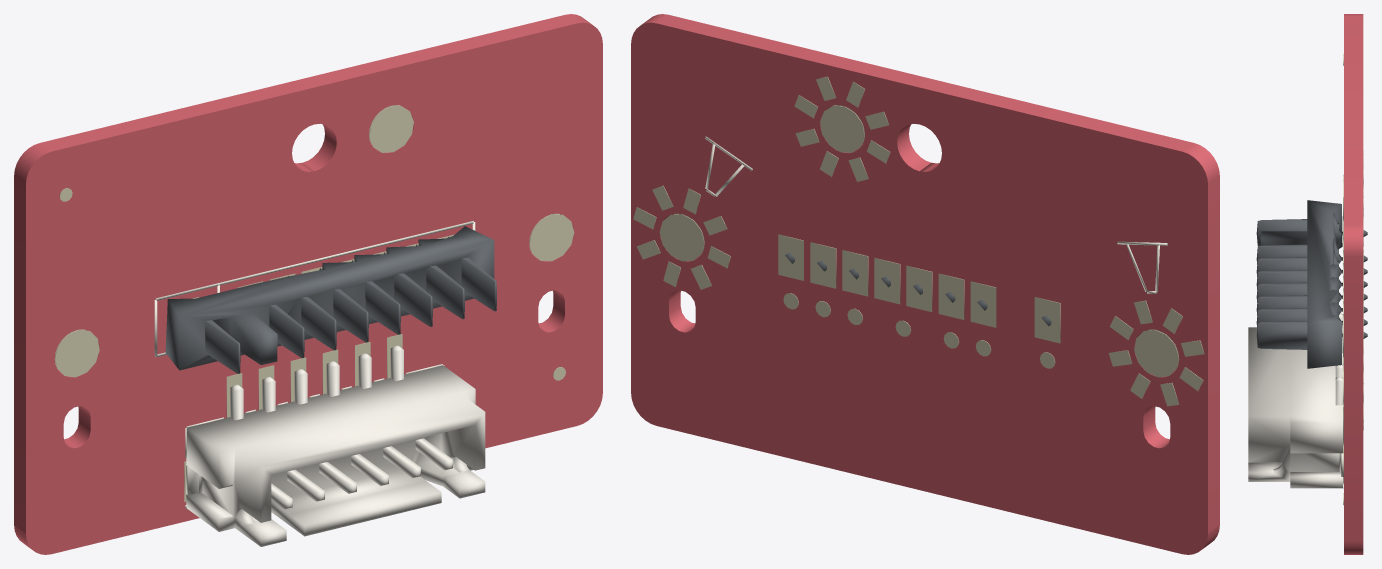
Rendered from pcb-conn-baffle.glb.
3 renders of one model, left to right at view 1: azimuth 30°, elevation 25°; view 2: azimuth 150°, elevation 25°; view 3: azimuth 270°, elevation 25°, orthographic. The views are drawn at different scales.
Visible parts, largest first — view 1: pcb, plastic, body, pads, silk; view 2: pcb, pads, silk; view 3: plastic, body, pcb, pads, silk.
Boxes of the visible parts, x1,y1,x2,y2 form: pcb: (14,14,602,554); plastic: (186,345,485,546); body: (165,226,496,373); pads: (54,105,574,501); silk: (154,221,475,509); pcb: (631,14,1219,554); pads: (633,76,1204,406); silk: (705,136,1167,293); plastic: (1248,313,1343,488); body: (1256,200,1367,368); pcb: (1344,14,1363,554); pads: (1343,54,1363,505); silk: (1343,197,1343,488).
Size of the model in its own units: 45 by 30 by 9.92.
